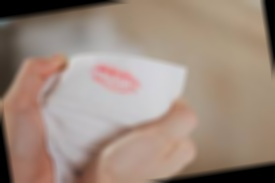lipstick: (86, 56, 145, 107)
